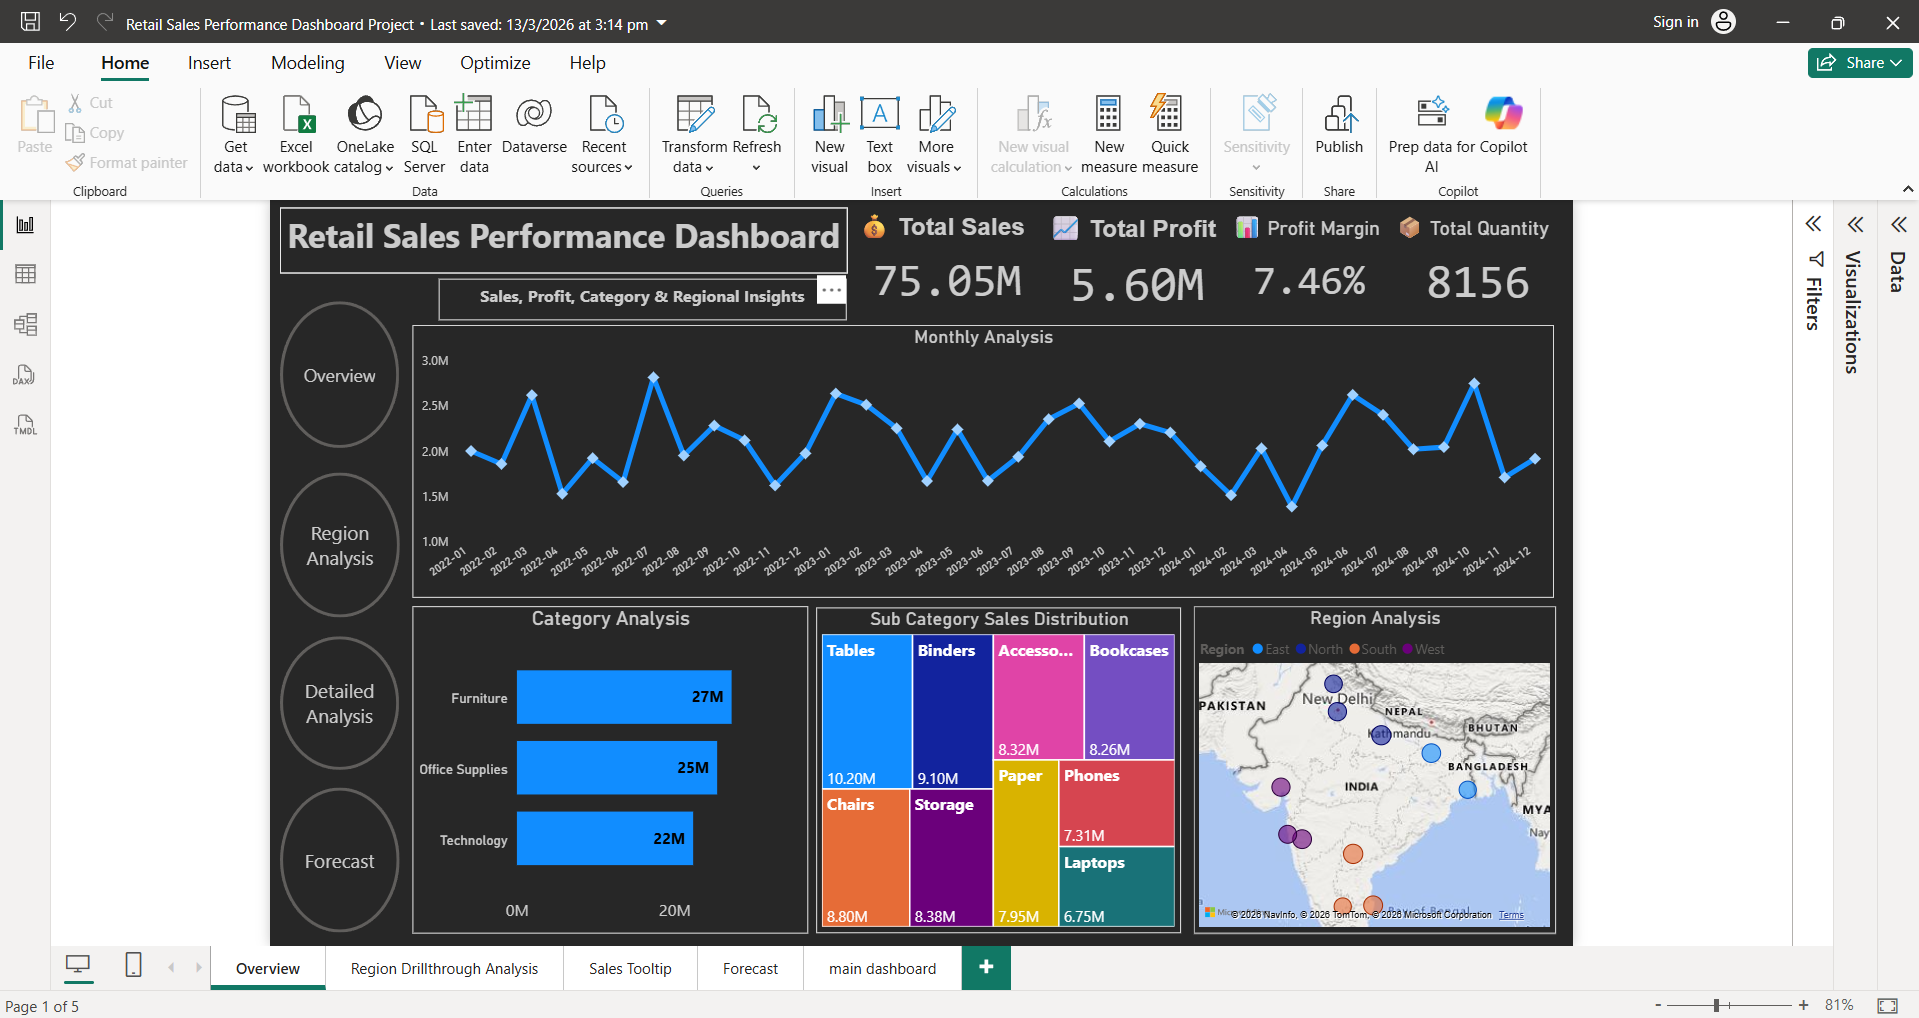

Layout of this report page (visuals, bound fields, positions):
{"tool":"powerbi","page":{"name":"Overview","canvas":[1280,733],"ordinal":0},"visuals":[{"type":"textbox","box":[9.8,7.4,557.6,65.1],"z":0},{"type":"textbox","box":[165.8,77.4,400.4,40.5],"z":1000},{"type":"card","title":"💰 Total Sales","fields":{"Values":["SALES DATASET.Total Sales"]},"box":[572.4,8.6,186.7,108.1],"z":2000},{"type":"card","title":"📈 Total Profit","fields":{"Values":["SALES DATASET.Total Profit"]},"box":[760.3,11.1,183,109.3],"z":3000},{"type":"card","title":"📊 Profit Margin","fields":{"Values":["SALES DATASET.Profit Margin"]},"box":[940.8,11.1,160.9,109.3],"z":4000},{"type":"card","title":"📦 Total Quantity","fields":{"Values":["SALES DATASET.Total Quantity"]},"box":[1100,11.4,174.3,108.6],"z":5000},{"type":"lineChart","title":"Monthly Analysis","fields":{"Category":["Date Table.Year Month"],"Y":["SALES DATASET.Total Sales"]},"box":[140,122.8,1121.4,267.8],"z":6000},{"type":"barChart","title":"Category Analysis","fields":{"Category":["SALES DATASET.Category"],"Y":["SALES DATASET.Total Sales"]},"box":[140,398.6,388.6,321.4],"z":7000},{"type":"treemap","title":"Sub Category Sales Distribution","fields":{"Group":["SALES DATASET.SubCategory"],"Values":["SALES DATASET.Total Sales"]},"box":[537.1,400,358.6,320],"z":8000},{"type":"map","title":"Region Analysis","fields":{"Category":["SALES DATASET.State"],"Size":["SALES DATASET.Total Sales"],"Series":["SALES DATASET.Region"]},"box":[907.1,398.6,355.7,321.4],"z":9000},{"type":"pageNavigator","box":[10,100,117.1,620],"z":10000},{"type":"actionButton","box":[10,428.6,117.1,131.4],"z":11000},{"type":"actionButton","box":[9.8,267.8,117.9,142.5],"z":12000},{"type":"actionButton","box":[10,100,117.1,144.3],"z":13000},{"type":"actionButton","box":[10,577.5,117.5,142.5],"z":14000}]}

Visuals, with their boxes on the page's 1280x733 design canvas (x1, y1, x2, y2). These are canvas units, not pixel positions in the 1919x1018 screenshot, which may show the page scaled, cropped or inside an application window:
textbox: 10/7/567/72
textbox: 166/77/566/118
"💰 Total Sales" card: 572/9/759/117
"📈 Total Profit" card: 760/11/943/120
"📊 Profit Margin" card: 941/11/1102/120
"📦 Total Quantity" card: 1100/11/1274/120
"Monthly Analysis" lineChart: 140/123/1261/391
"Category Analysis" barChart: 140/399/529/720
"Sub Category Sales Distribution" treemap: 537/400/896/720
"Region Analysis" map: 907/399/1263/720
pageNavigator: 10/100/127/720
actionButton: 10/429/127/560
actionButton: 10/268/128/410
actionButton: 10/100/127/244
actionButton: 10/578/128/720
